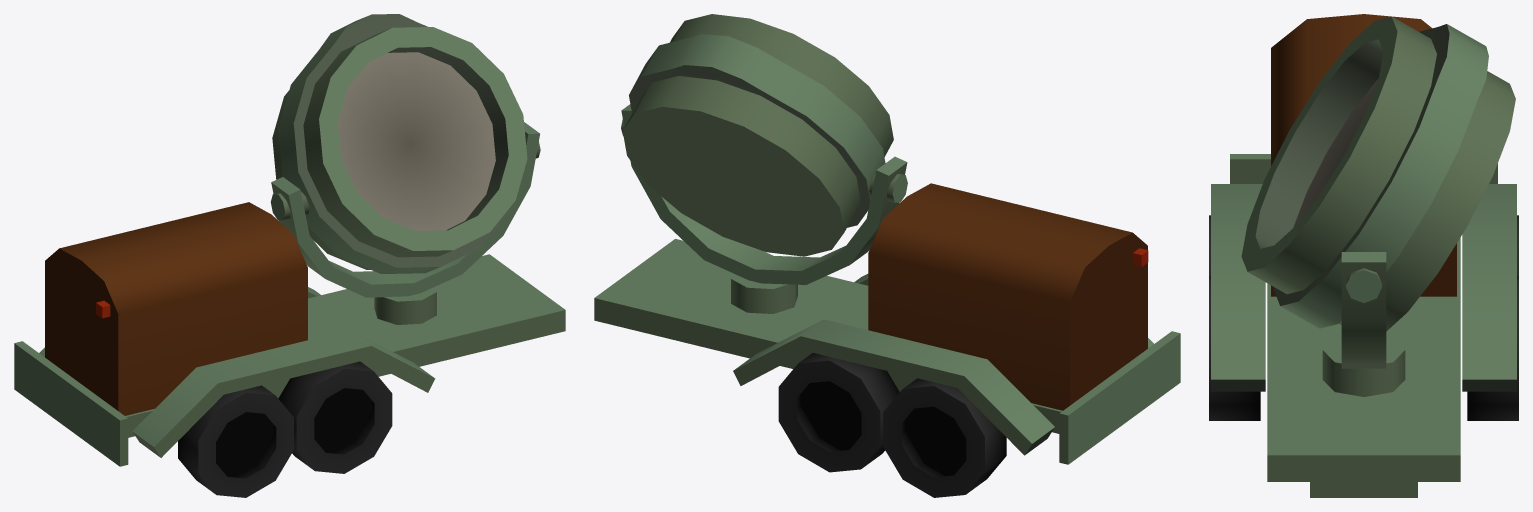
File: StadiumSpotlight_LargeWagon.fbx
The picture shows the model from 3 angles, left to right: view 1: azimuth 30°, elevation 25°; view 2: azimuth 150°, elevation 25°; view 3: azimuth 270°, elevation 25°; orthographic projection. The views are drawn at different scales.
Parts seen in each view (by area): view 1: StadiumSpotlight_LargeWagon; view 2: StadiumSpotlight_LargeWagon; view 3: StadiumSpotlight_LargeWagon.
Boxes of the visible parts, x1=… form: StadiumSpotlight_LargeWagon: x1=14, y1=14, x2=565, y2=497; StadiumSpotlight_LargeWagon: x1=594, y1=14, x2=1180, y2=497; StadiumSpotlight_LargeWagon: x1=1209, y1=14, x2=1518, y2=497.
Bounding box in the file's own units: 585 × 434 × 265.
